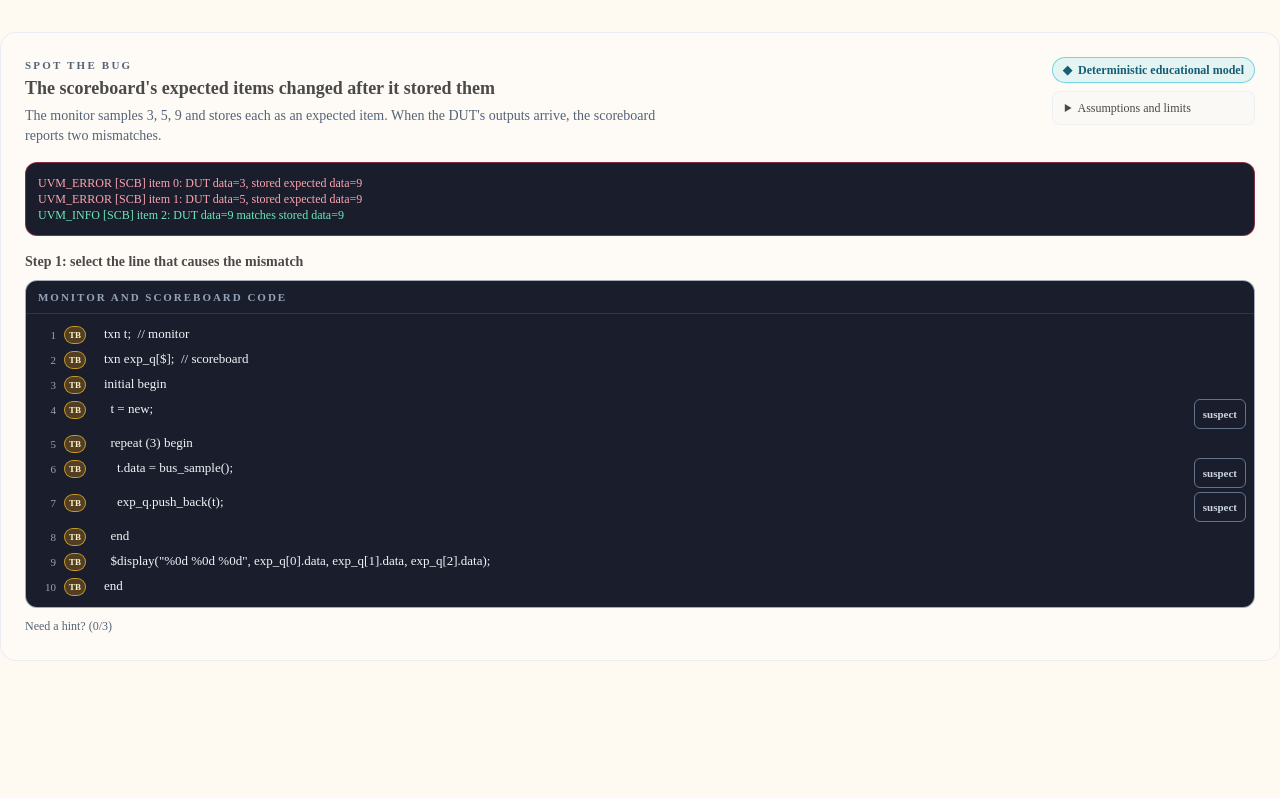
ObjectHandleVisualizer (spot the bug) › shows the symptom, grades suspects, and reruns fixes on the model
Expected: the text "UVM_ERROR [SCB] item 0: DUT data=3, stored expected data=9" is shown, top-left (38, 176), bottom-right (362, 190)
Expected: the text "UVM_INFO [SCB] item 2: DUT data=9 matches stored data=9" is shown, top-left (38, 208), bottom-right (344, 222)
Click the button with aria-label "Suspect line: exp_q.push_back(t);" at (1220, 507), box top-left (1194, 492), bottom-right (1246, 522)
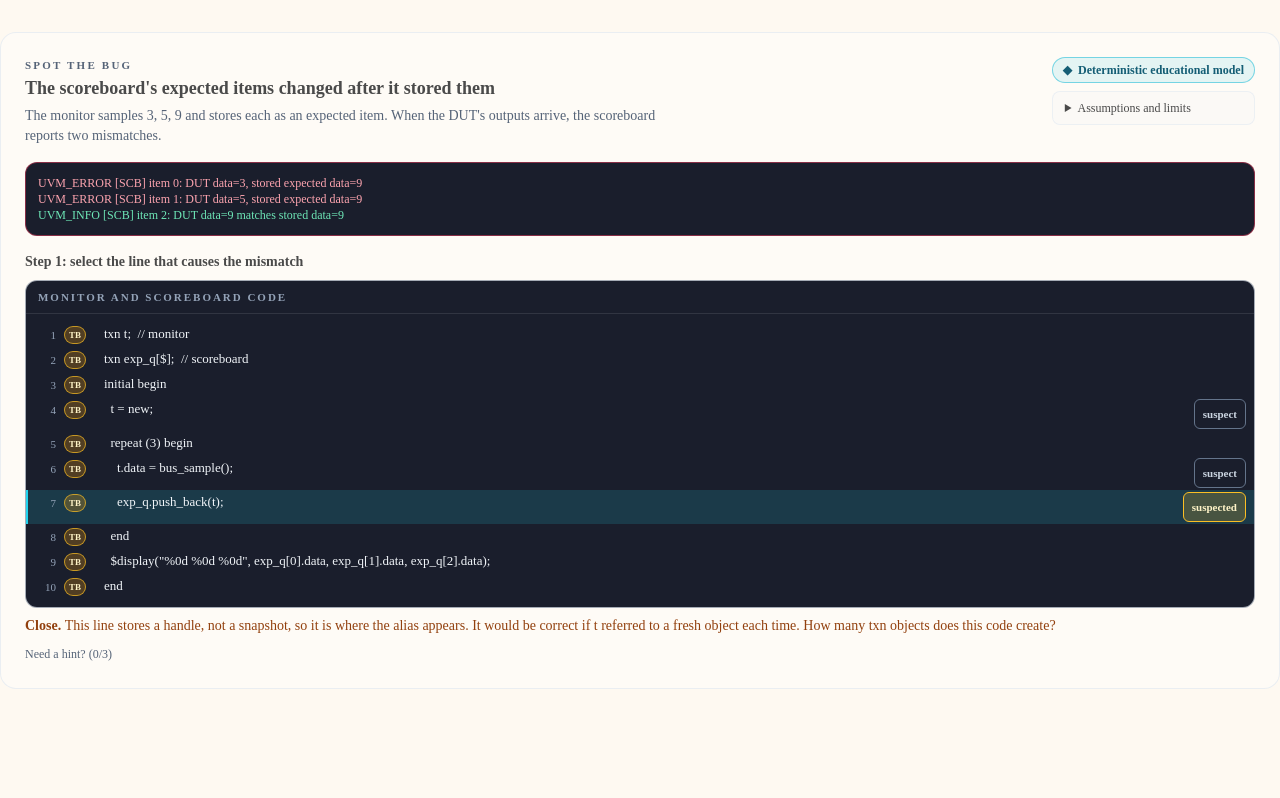
Expected: the text "Step 2" is not shown
Result: the text "Close." is shown at top-left (25, 618), bottom-right (65, 633)
Click the button with aria-label "Suspect line: t = new;" at (1220, 414), box top-left (1194, 399), bottom-right (1246, 429)
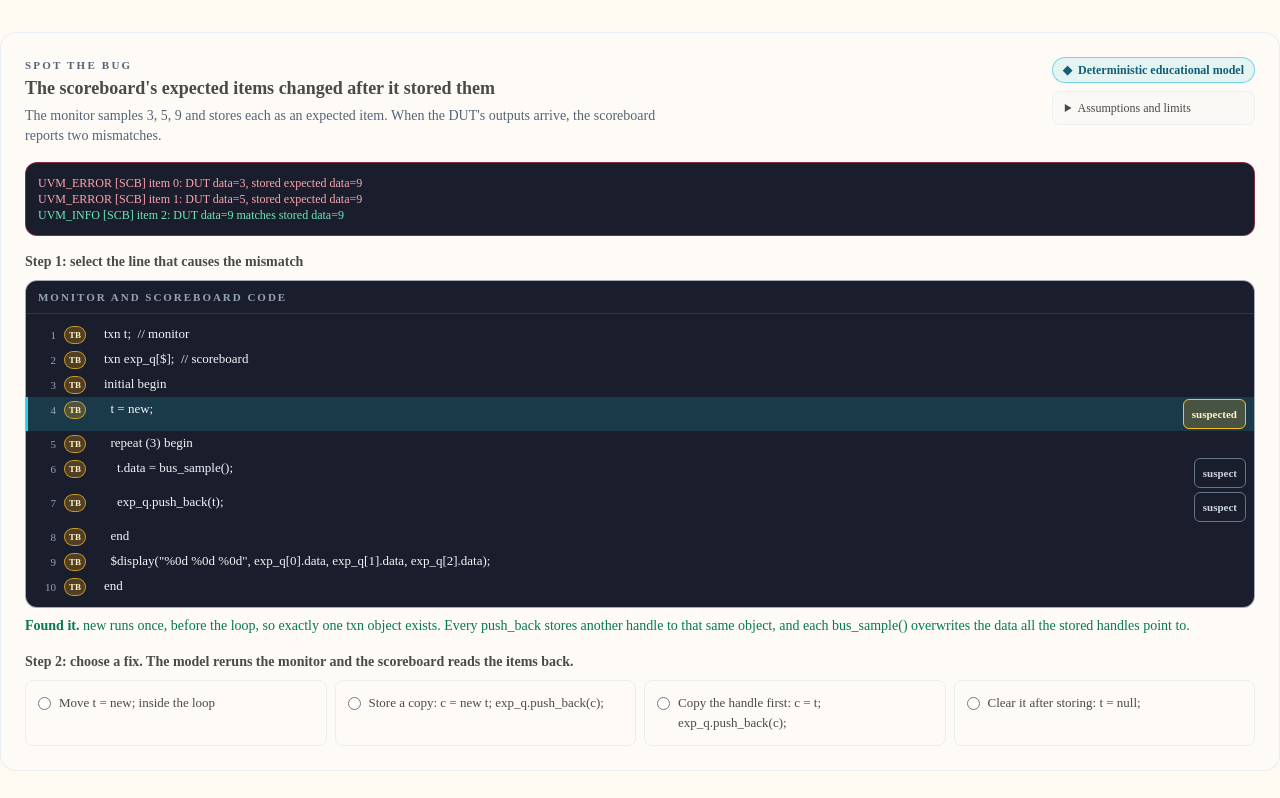
Result: the text "Found it." is shown at top-left (25, 618), bottom-right (83, 633)
Click the radio button labelled "Copy the handle first: c = t; exp_q.push_back(c);" at (664, 704), box top-left (657, 697), bottom-right (670, 710)
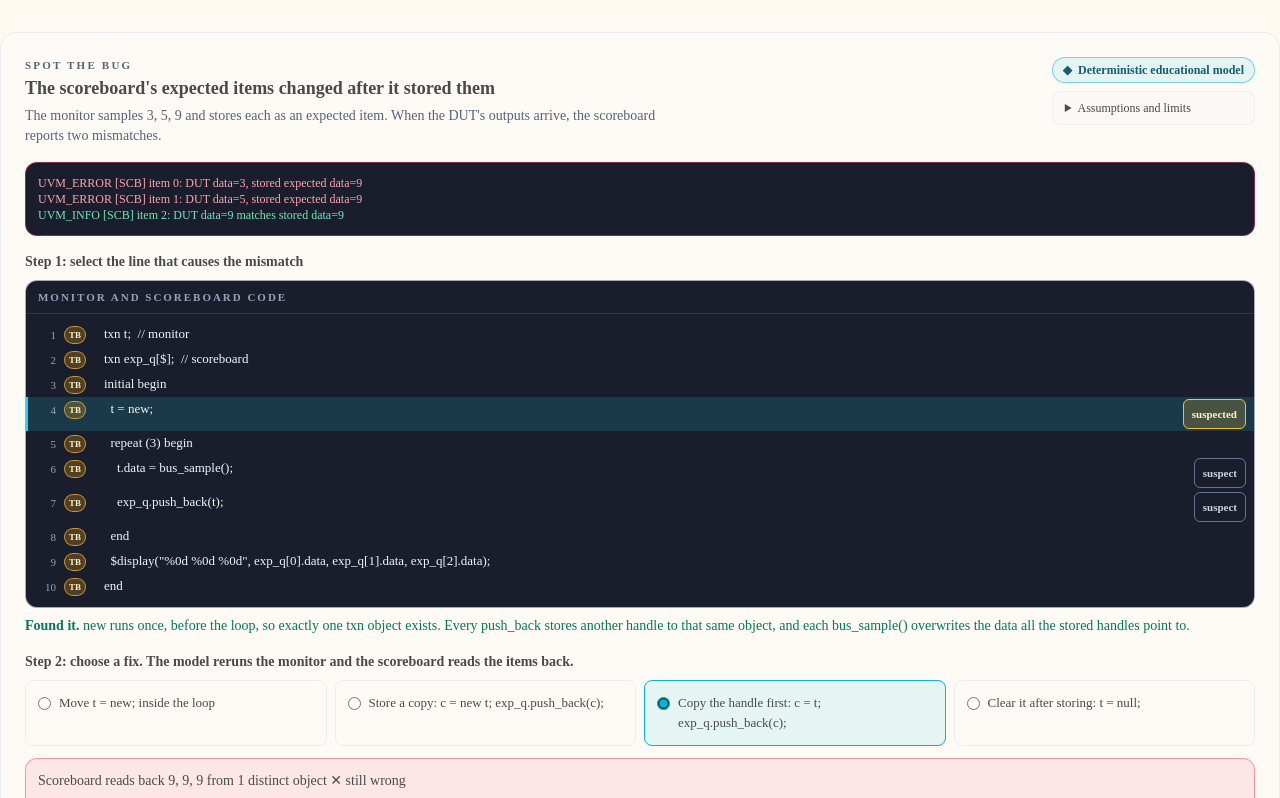
Result: the text "Scoreboard reads back 9, 9, 9 from 1 distinct object" shows "✕ still wrong" at top-left (330, 773), bottom-right (406, 788)
Click the radio button labelled "Move t = new; inside the loop" at (44, 704), box top-left (38, 697), bottom-right (51, 710)
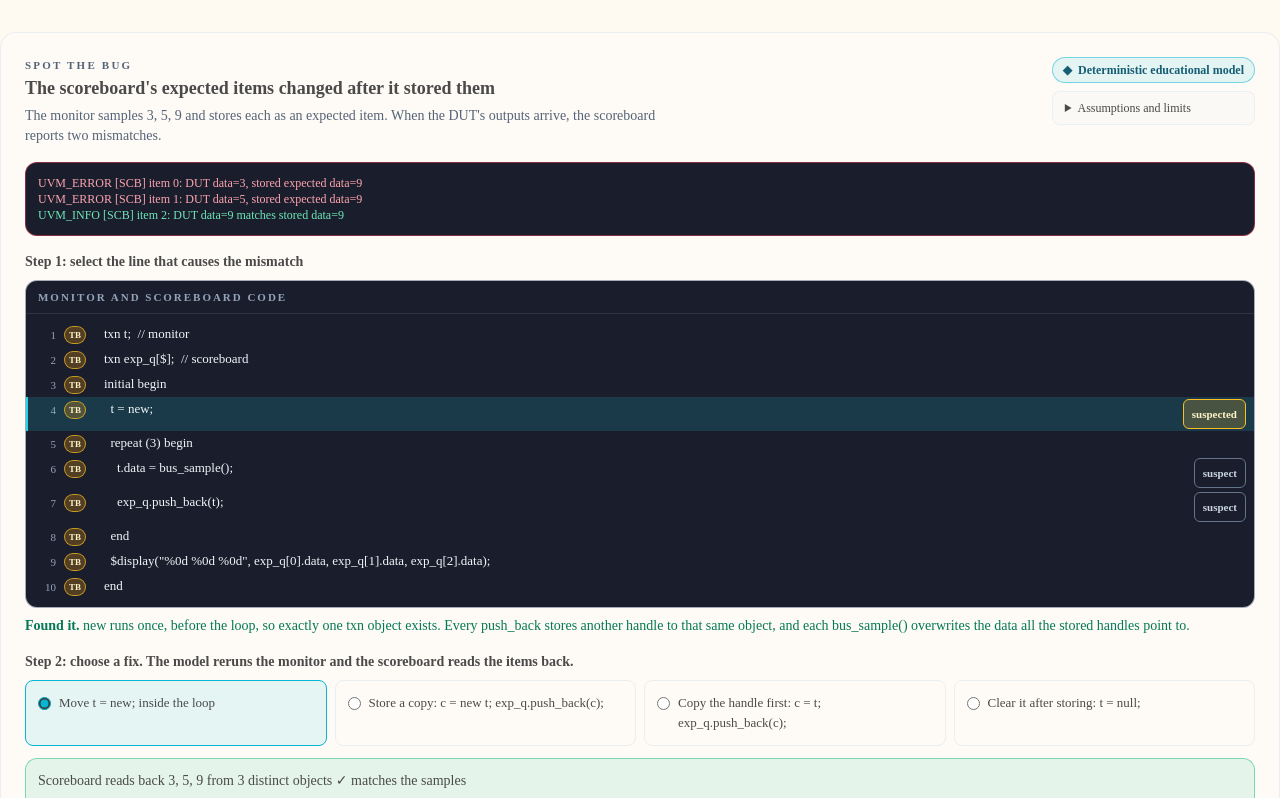
Result: the text "Scoreboard reads back 3, 5, 9 from 3 distinct objects" shows "✓ matches the samples" at top-left (336, 773), bottom-right (466, 788)
Click the radio button labelled "Clear it after storing: t = null;" at (973, 704), box top-left (966, 697), bottom-right (980, 710)
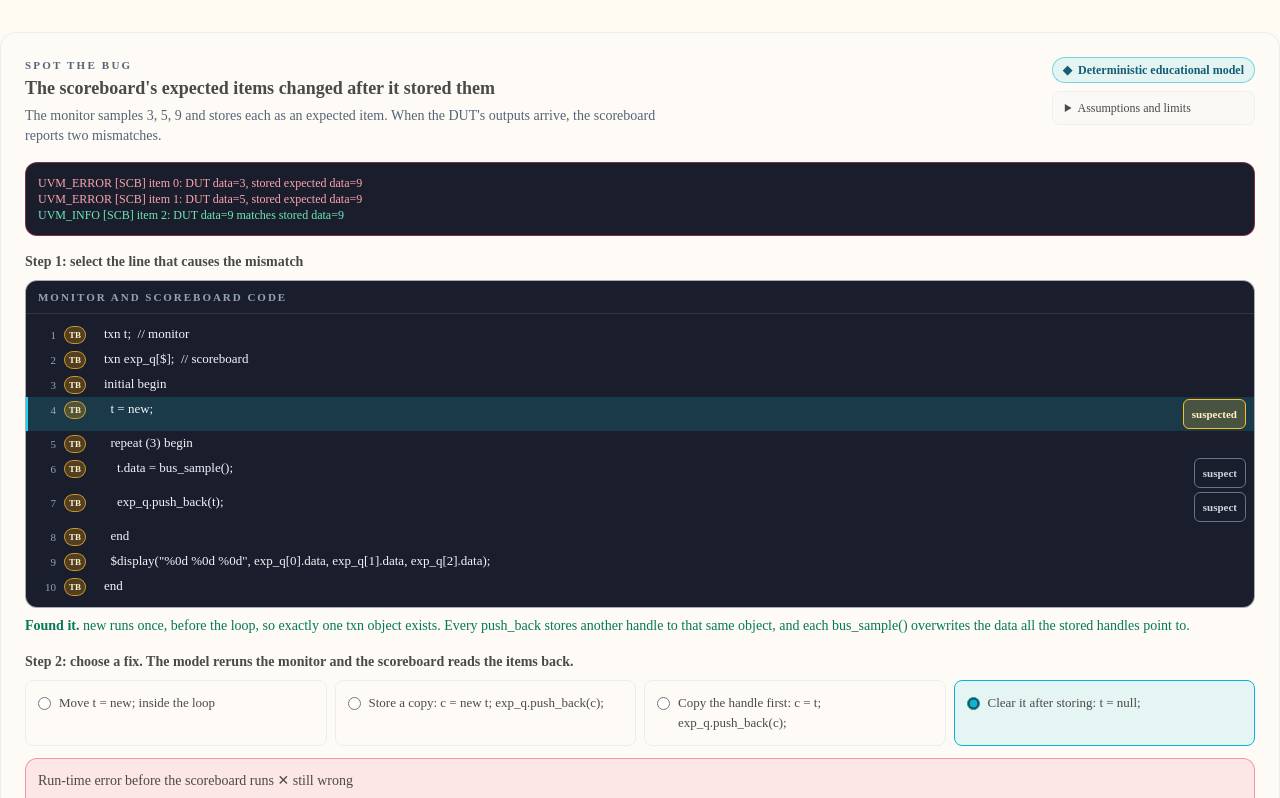
Result: the text "Run-time error before the scoreboard runs ✕ still wrong" is shown at top-left (38, 773), bottom-right (353, 788)
